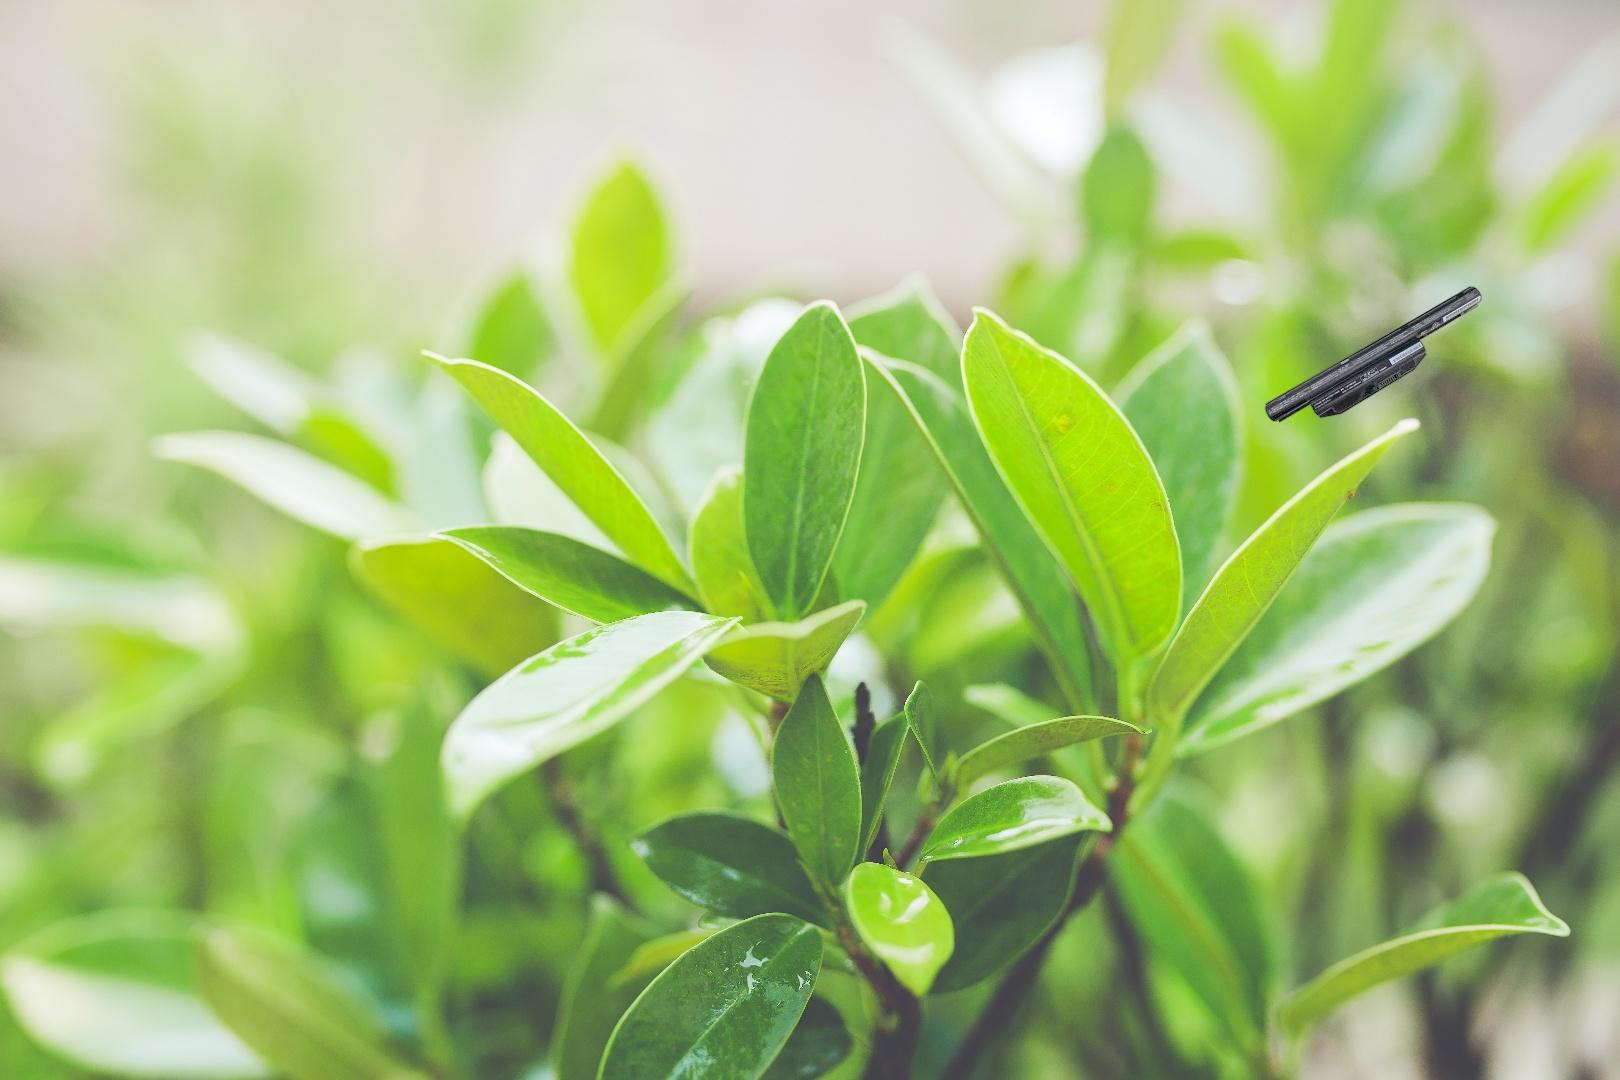battery: (1262, 284, 1484, 425)
